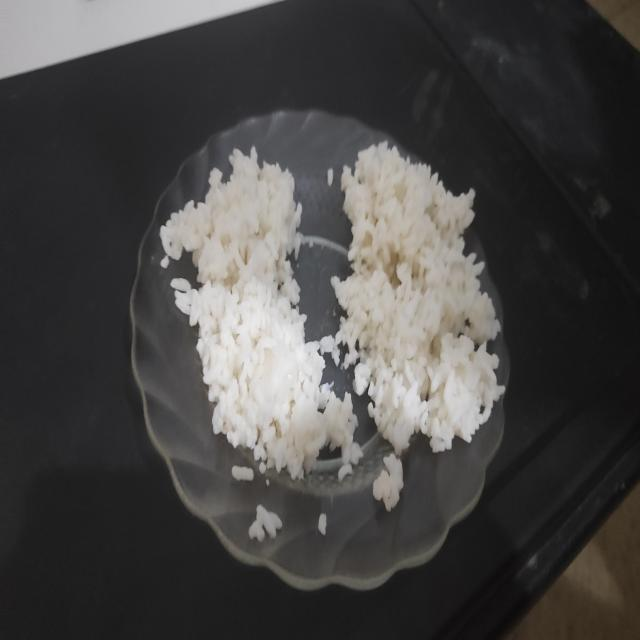nasi_putih: (160, 148, 362, 482), (331, 142, 504, 454)
